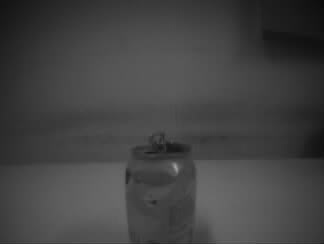Tin can: (124, 131, 199, 244)
